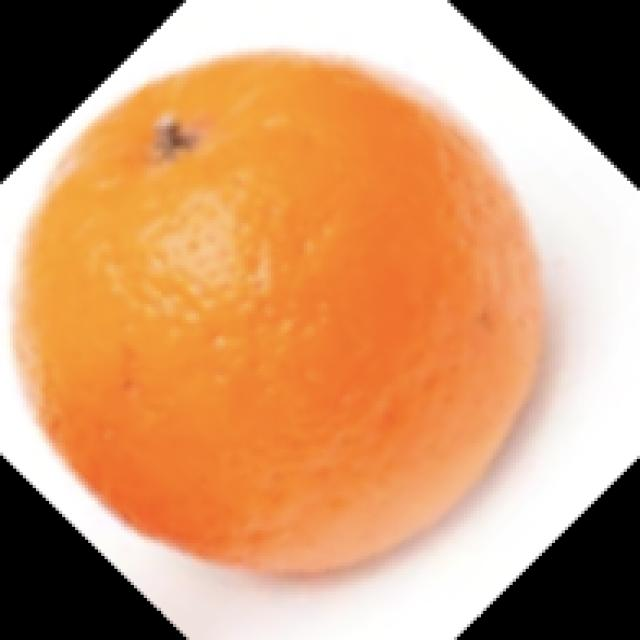fresh: (4, 43, 579, 591)
